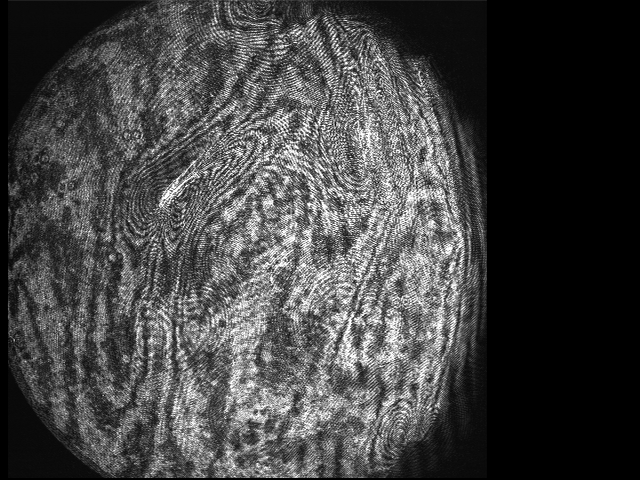plume: (128, 99, 279, 238)
